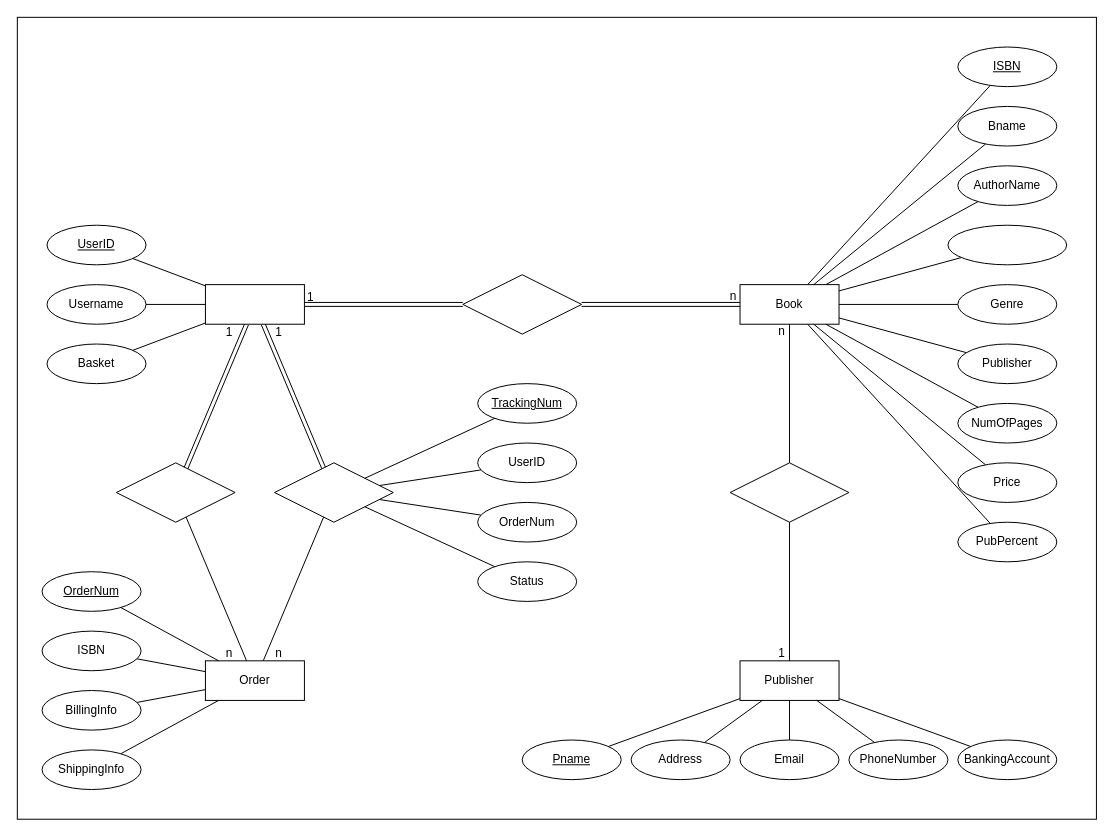
Some shapes in this 1114 by 837 pixel diagram are drawn without their labels. The centre of each missing label's shape, as x and y in pixels:
"ContributingAuthors" goes at point (1007, 244).
"Places" goes at point (175, 492).
"PublishedBy" goes at point (789, 492).
"Selects" goes at point (522, 304).
"Tracks" goes at point (333, 492).
"User" goes at point (254, 304).
